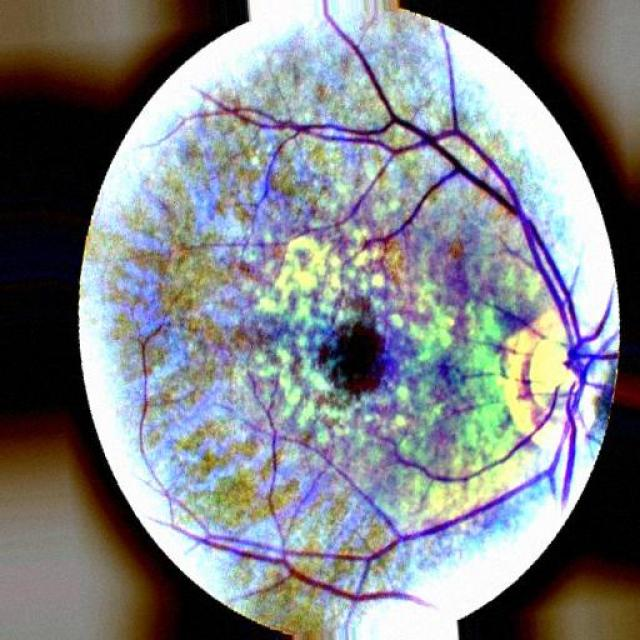Macula: (318, 316, 384, 395)
Nerves: (289, 0, 613, 536)
Optic Disk: (429, 385, 557, 481), (529, 329, 610, 427), (380, 142, 408, 156)
